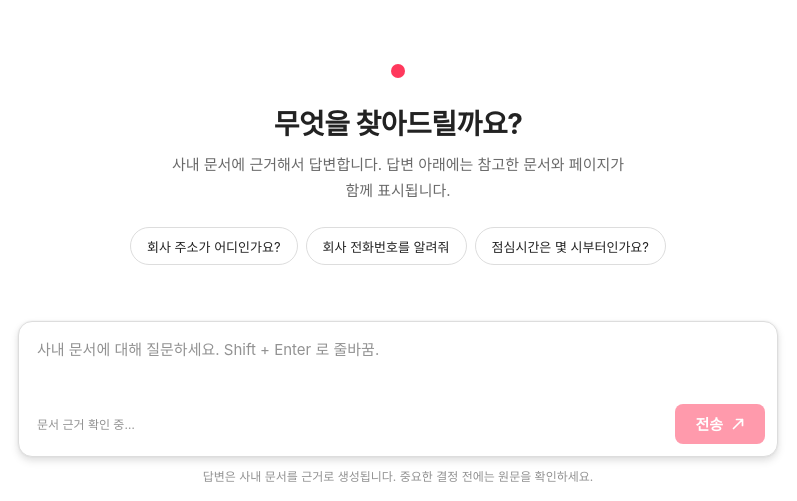
ChatPanel › marks the reply as an error when the stream throws mid-turn (not an intentional abort)
Type "hi" into the text box. click: (398, 359)
box: [19,322,777,396]
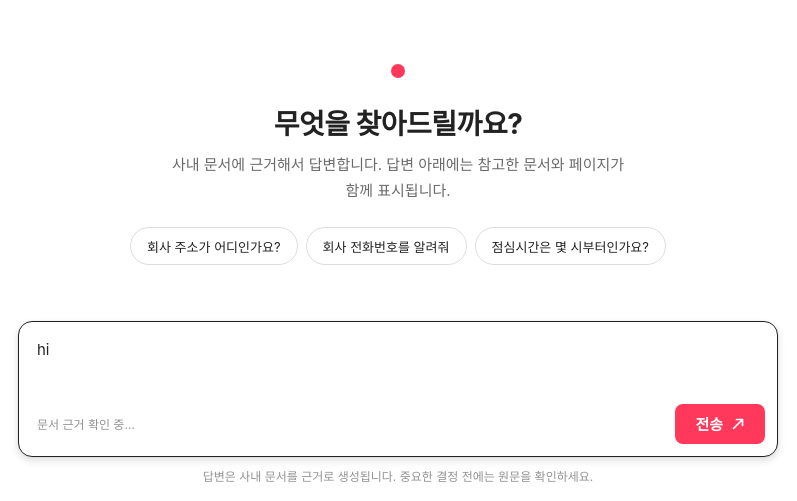
Click the button "전송". click: (720, 424)
box: [675,404,765,444]
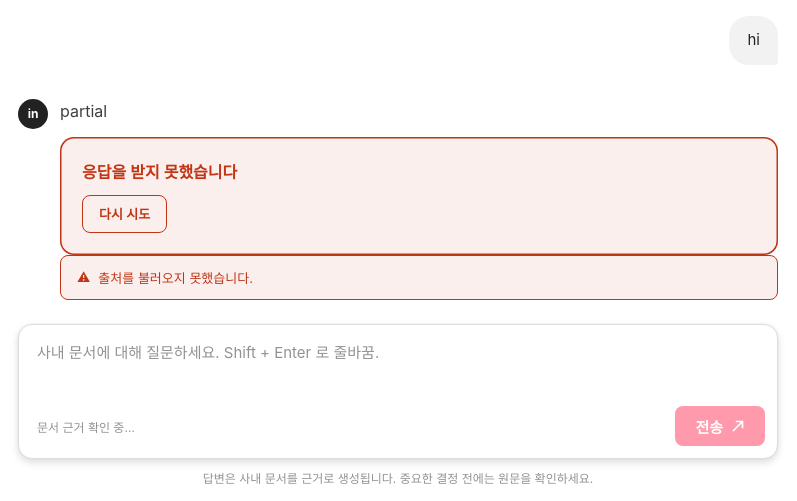
Check: the message "partial" is shown, box [60,101,107,121]
Check: the text "출처를 불러오지 못했습니다." is shown, box [98,270,253,286]
